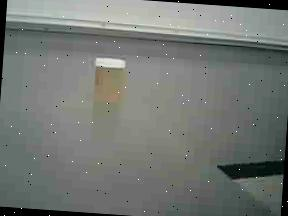Bottle B: (84, 52, 134, 109)
